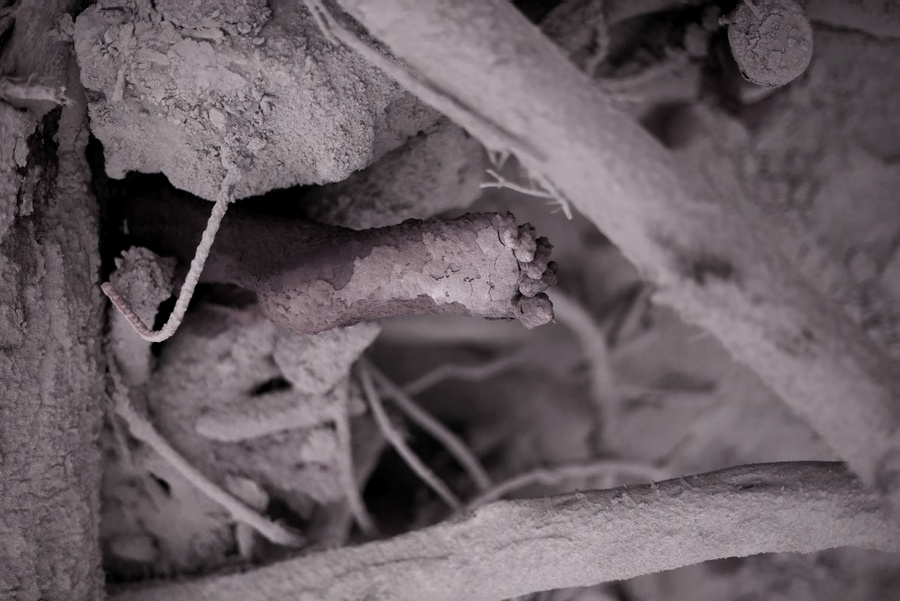Korban: (123, 180, 558, 336)
